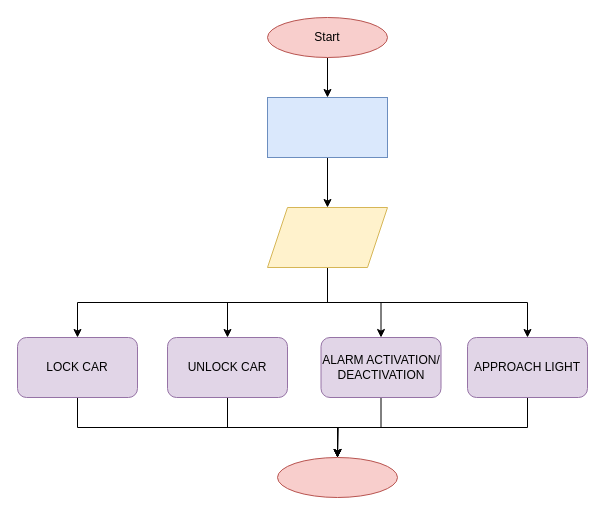
Some shapes in this 605 by 515 pixel diagram are drawn without their labels. Here are the shapes that lost their labels. From the top down, the centre of each, then its label:
At [327,127]: "Push Button".
At [327,237]: "User Input (No. of times pressed)".
At [337,477]: "End".
